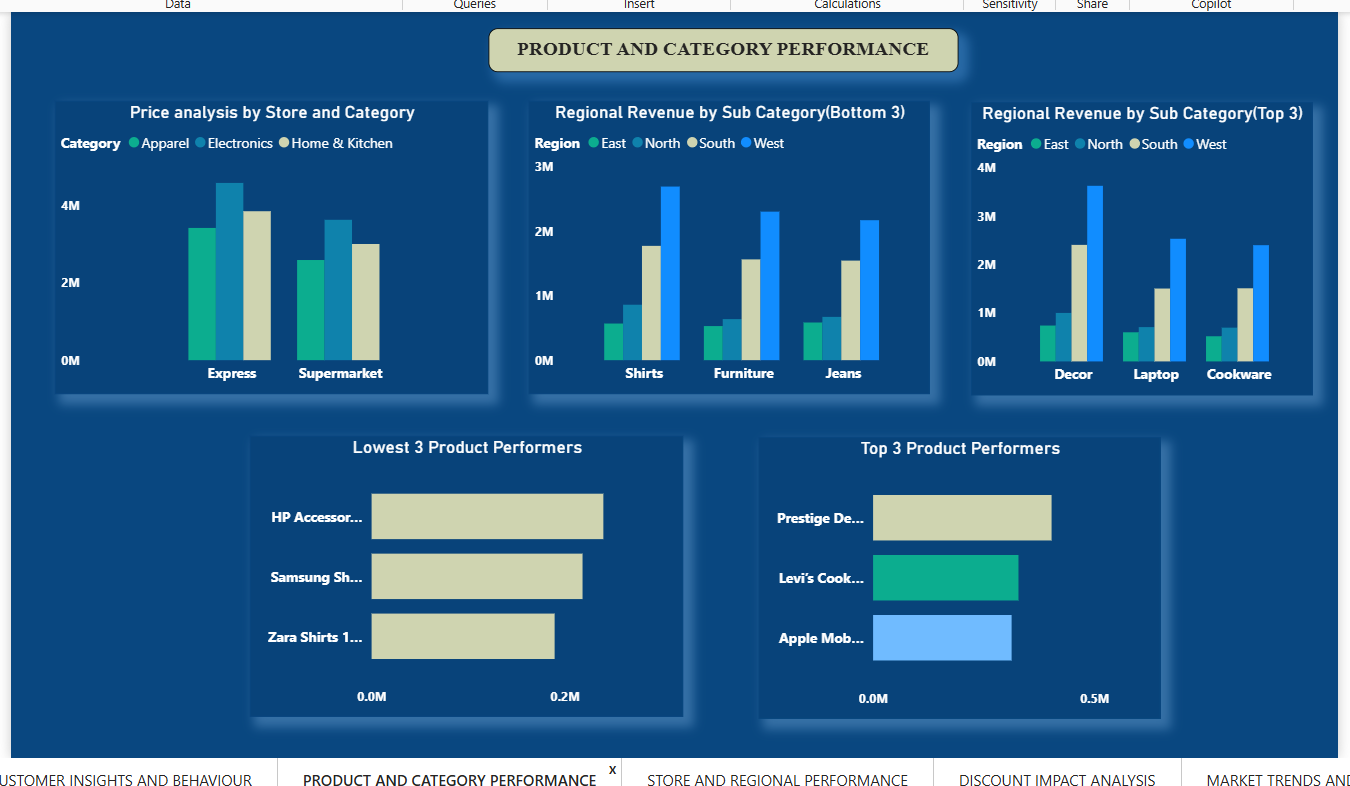

Layout of this report page (visuals, bound fields, positions):
{"tool":"powerbi","page":{"name":"PRODUCT AND CATEGORY PERFORMANCE","canvas":[1280,720],"ordinal":1},"visuals":[{"type":"clusteredColumnChart","title":"Regional Revenue by Sub Category(Top 3)","fields":{"Category":["Products.SubCategory"],"Y":["Sum(Sales.NetRevenue)"],"Series":["Stores.Region"]},"box":[926.5,86.9,329.4,283.5],"z":0},{"type":"clusteredColumnChart","title":"Price analysis by Store and Category","fields":{"Category":["Stores.StoreType"],"Y":["Sum(Sales.UnitPrice)"],"Series":["Products.Category"]},"box":[42.2,85.7,418.6,283.5],"z":1000},{"type":"barChart","title":"Top 3 Product Performers","fields":{"Category":["Products.ProductName"],"Y":["Sum(Sales.NetRevenue)"]},"box":[721.8,410.3,388.3,271.7],"z":2000},{"type":"barChart","title":"Lowest 3 Product Performers","fields":{"Category":["Products.ProductName"],"Y":["Sum(Sales.NetRevenue)"]},"box":[230.4,409,418.6,271.4],"z":3000},{"type":"clusteredColumnChart","title":"Regional Revenue by Sub Category(Bottom 3)","fields":{"Category":["Products.SubCategory"],"Y":["Sum(Sales.NetRevenue)"],"Series":["Stores.Region"]},"box":[499.5,85.7,387.3,283.5],"z":4000},{"type":"textbox","box":[460.9,15.7,453.6,42.2],"z":5000}]}

Visuals, with their boxes on the page's 1280x720 design canvas (x1, y1, x2, y2). These are canvas units, not pixel positions in the 1350x786 screenshot, which may show the page scaled, cropped or inside an application window:
"Regional Revenue by Sub Category(Top 3)" clusteredColumnChart: (926,87,1256,370)
"Price analysis by Store and Category" clusteredColumnChart: (42,86,461,369)
"Top 3 Product Performers" barChart: (722,410,1110,682)
"Lowest 3 Product Performers" barChart: (230,409,649,680)
"Regional Revenue by Sub Category(Bottom 3)" clusteredColumnChart: (500,86,887,369)
textbox: (461,16,914,58)
